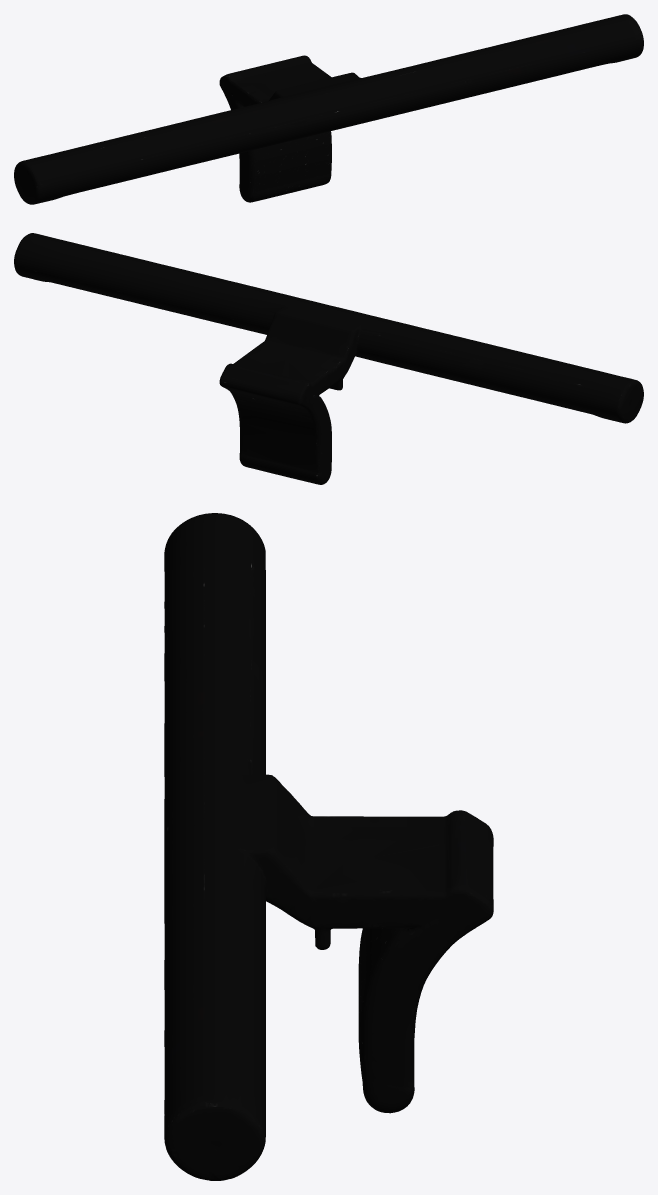
The model's file is xiaomi-lightbar-1s.glb.
3 views of the same model, one above another, from view 1: azimuth 30°, elevation 25°; view 2: azimuth 150°, elevation 25°; view 3: azimuth 270°, elevation 25° (orthographic). The views are drawn at different scales.
Visible parts, largest first — view 1: world; view 2: world; view 3: world.
Part boxes in pixels (x1,y1,x2,y2): world: (14,14,643,204); world: (14,233,643,484); world: (164,513,493,1180).
Size of the model in its own units: 0.448 by 0.0949 by 0.105.
1 material, 1 textured.
